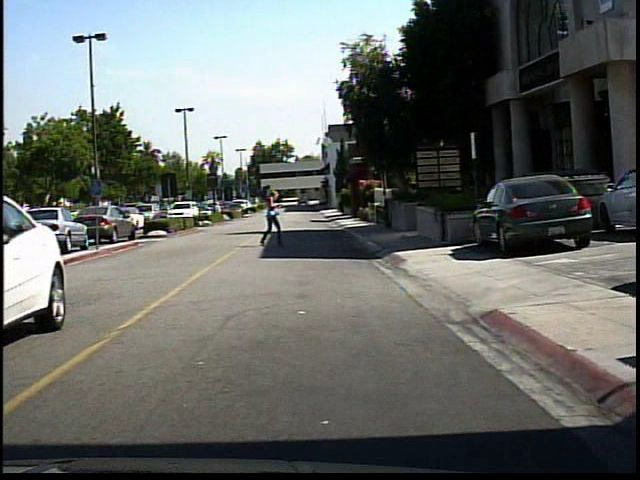person: (254, 186, 287, 250)
